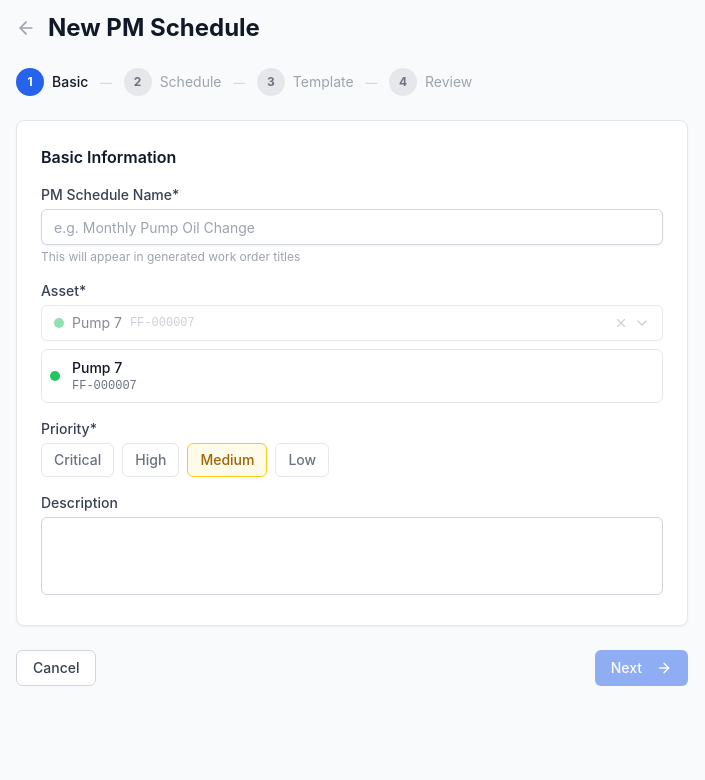
it: creating a schedule › counts from the last service when it is given, and tells how to add a meter when the asset has none
In the field with placeholder "e.g. Monthly Pump Oil Change": (352, 227) [41, 209, 663, 245], type "Oil change"
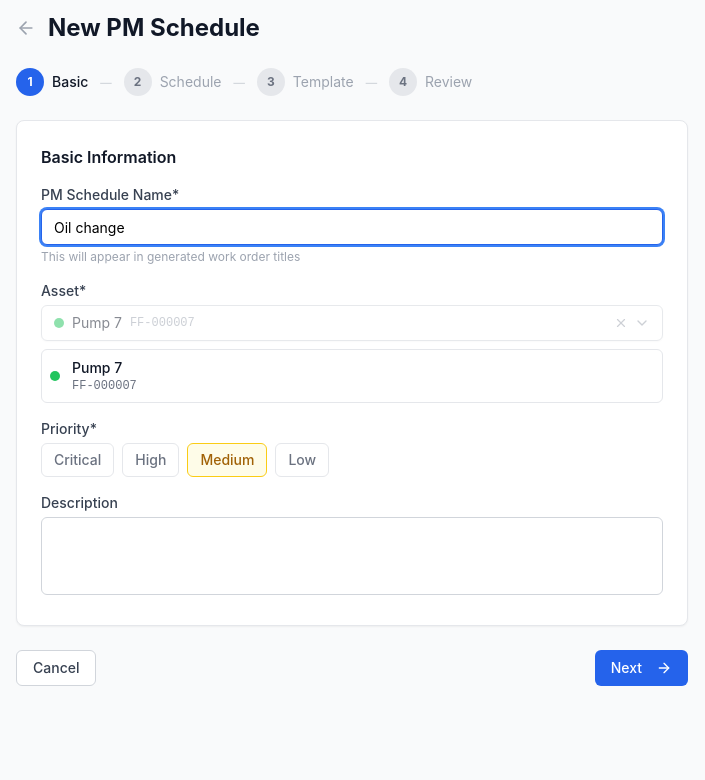
Click the button "Next": (641, 668) [595, 650, 688, 686]
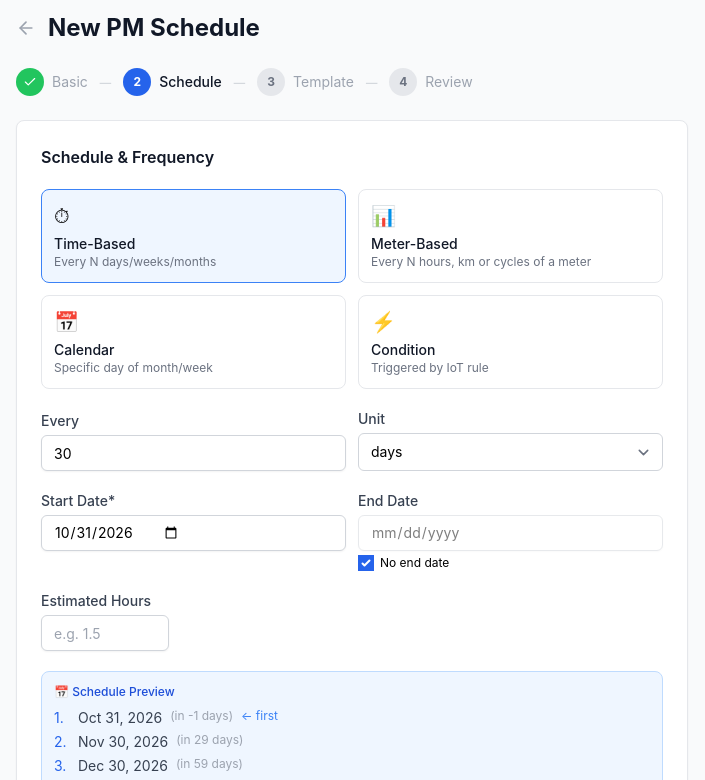
Click the button "📊 Meter-Based Every N hours, km or cycles of a meter": (414, 244) [358, 189, 663, 283]
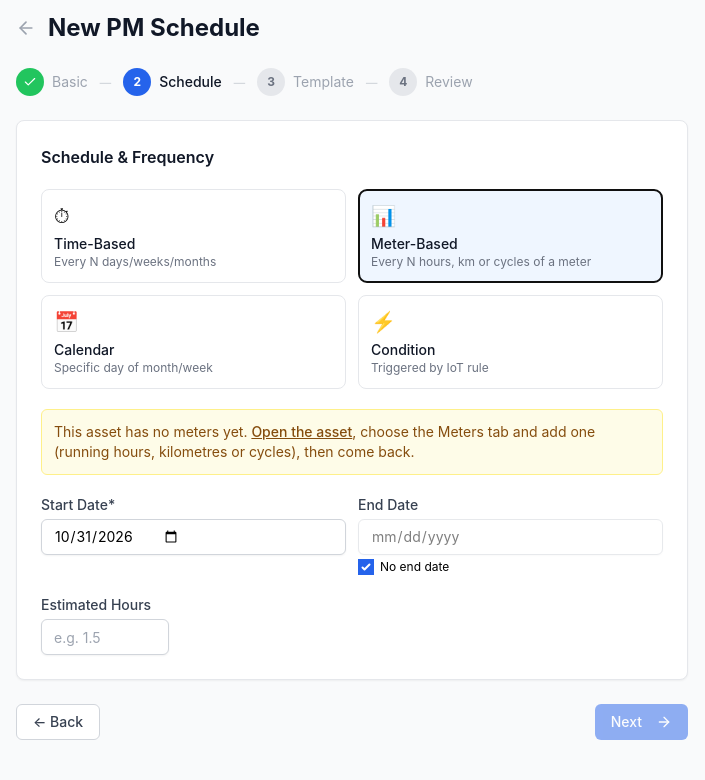
Expected: the text "This asset has no meters yet" is shown, [54, 423, 251, 440]
